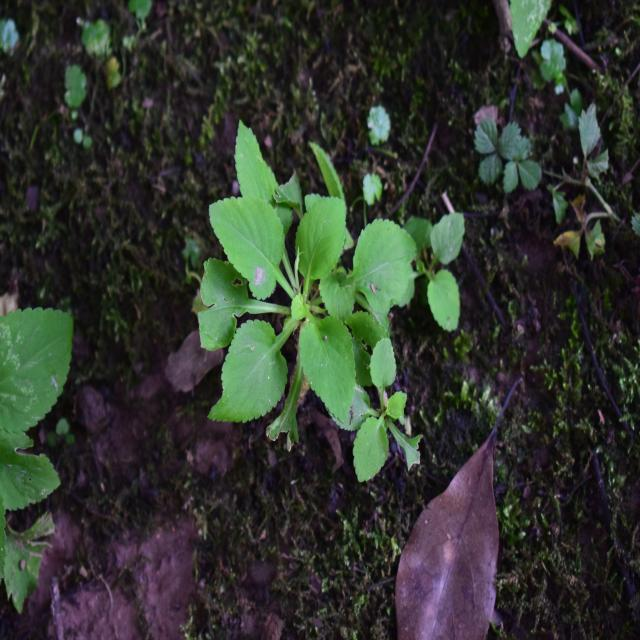Viola: (182, 142, 394, 416)
